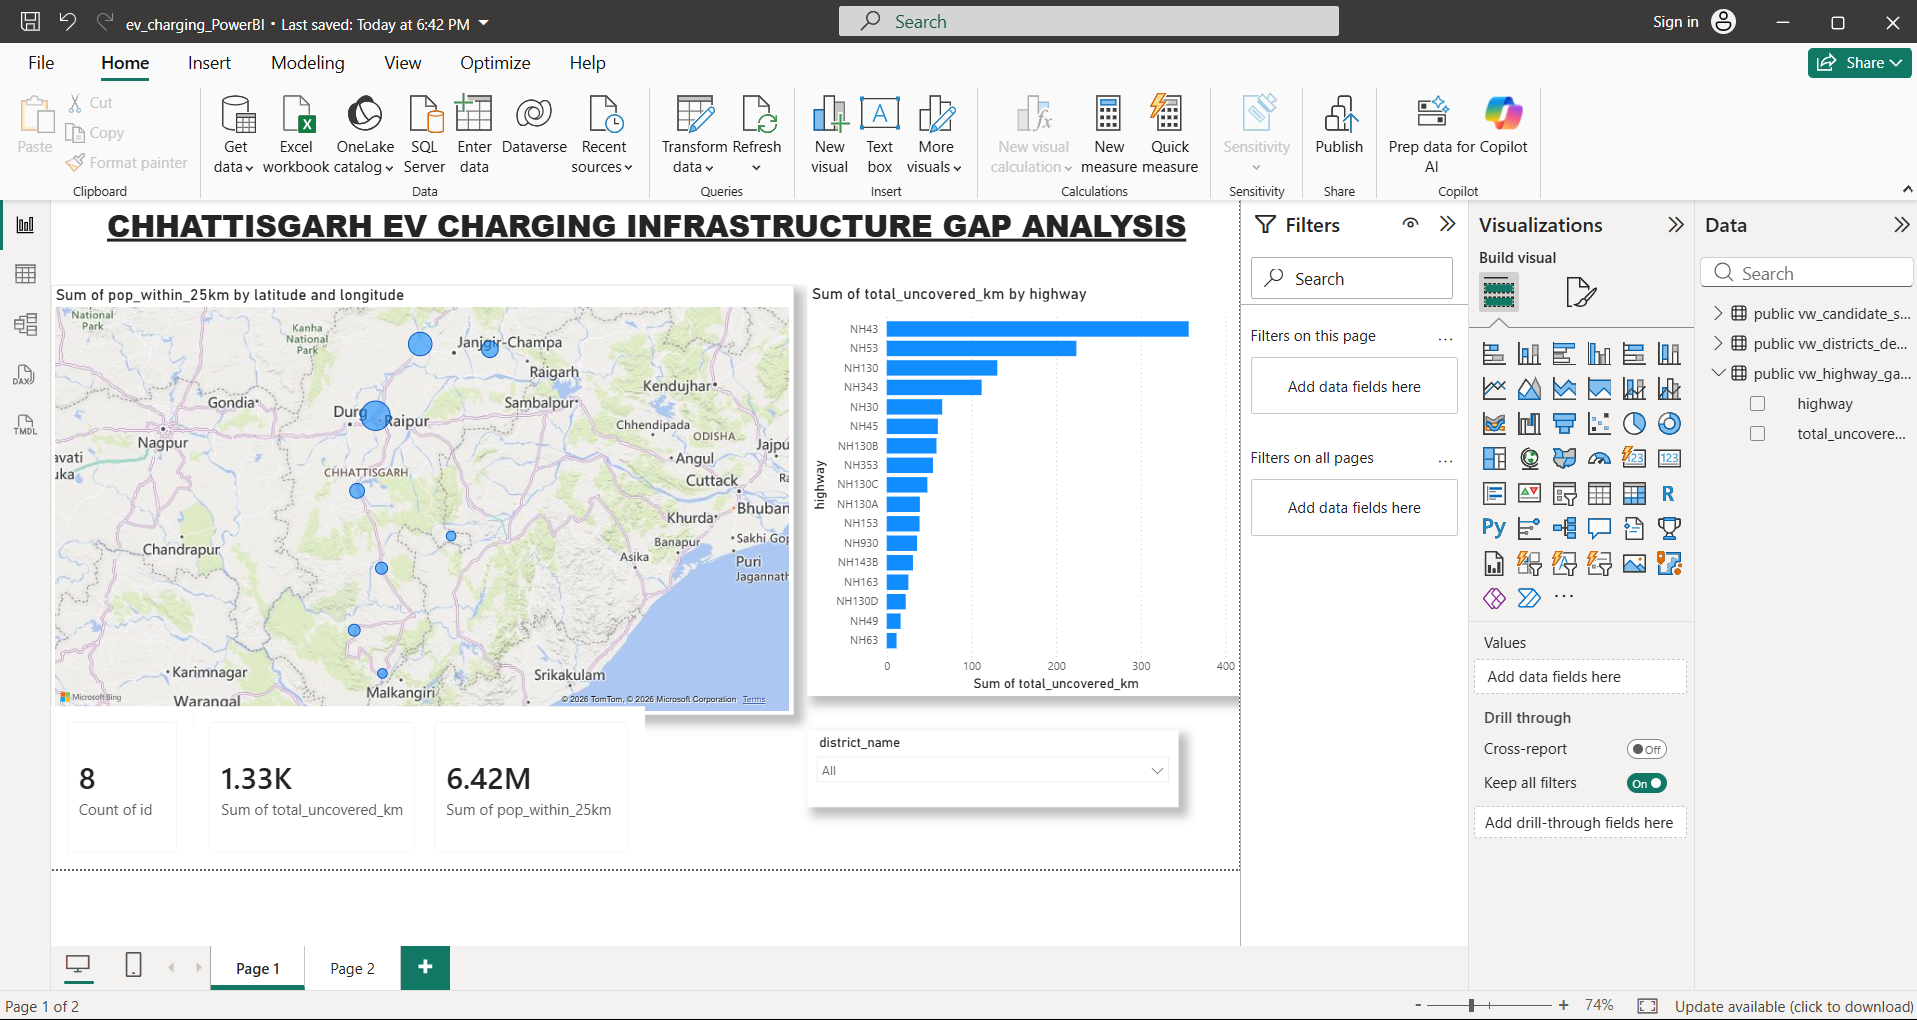

The dashboard page shown, as its layout file describes it:
{"tool":"powerbi","page":{"name":"Page 1","canvas":[1280,720],"ordinal":0},"visuals":[{"type":"map","fields":{"Y":["public vw_candidate_sites.latitude"],"X":["public vw_candidate_sites.longitude"],"Size":["Sum(public vw_candidate_sites.pop_within_25km)"]},"box":[0,80.8,800,474.4],"z":0},{"type":"cardVisual","fields":{"Data":["Count(public vw_candidate_sites.id)"]},"box":[0,545.2,153.5,175],"z":1000},{"type":"cardVisual","fields":{"Data":["Sum(public vw_highway_gaps.total_uncovered_km)"]},"box":[153.5,545.2,255.8,175],"z":2000},{"type":"cardVisual","fields":{"Data":["Sum(public vw_candidate_sites.pop_within_25km)"]},"box":[395.8,545.2,243.7,175],"z":3000},{"type":"clusteredBarChart","fields":{"Category":["public vw_highway_gaps.highway"],"Y":["Sum(public vw_highway_gaps.total_uncovered_km)"]},"box":[814.5,90.2,465.8,444.3],"z":4000},{"type":"slicer","fields":{"Values":["public vw_candidate_sites.district_name"]},"box":[814.5,570.8,399.8,83.5],"z":5000},{"type":"textbox","box":[2.7,0,1277.6,90.2],"z":6001}]}

Visuals, with their boxes on the page's 1280x720 design canvas (x1, y1, x2, y2). These are canvas units, not pixel positions in the 1917x1020 screenshot, which may show the page scaled, cropped or inside an application window:
map - public vw_candidate_sites.latitude x public vw_candidate_sites.longitude: [0, 81, 800, 555]
cardVisual - Count(public vw_candidate_sites.id): [0, 545, 154, 720]
cardVisual - Sum(public vw_highway_gaps.total_uncovered_km): [154, 545, 409, 720]
cardVisual - Sum(public vw_candidate_sites.pop_within_25km): [396, 545, 640, 720]
clusteredBarChart - public vw_highway_gaps.highway x Sum(public vw_highway_gaps.total_uncovered_km): [814, 90, 1280, 534]
slicer - public vw_candidate_sites.district_name: [814, 571, 1214, 654]
textbox: [3, 0, 1280, 90]
